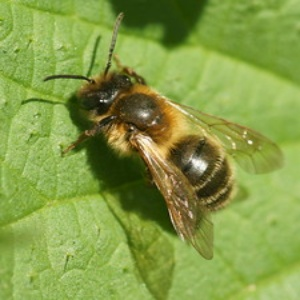bee: (43, 11, 291, 262)
